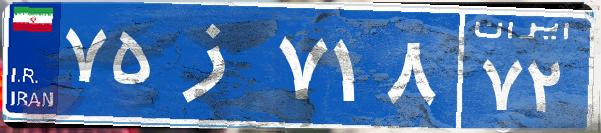1: (330, 28, 385, 110)
2: (525, 38, 570, 115)
5: (110, 28, 158, 105)
7: (273, 28, 330, 110), (57, 26, 110, 107), (475, 38, 525, 113)
8: (385, 28, 445, 110)
ز: (158, 15, 273, 115)
